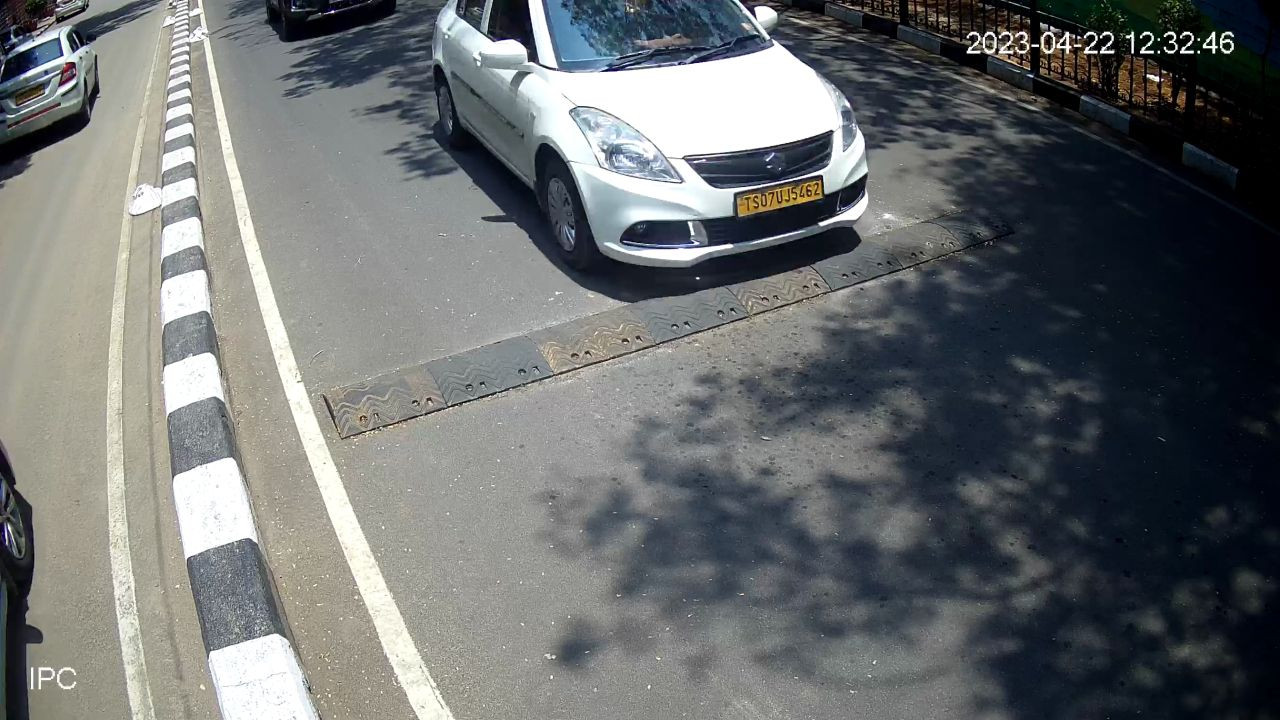license_plate: (729, 169, 827, 226)
